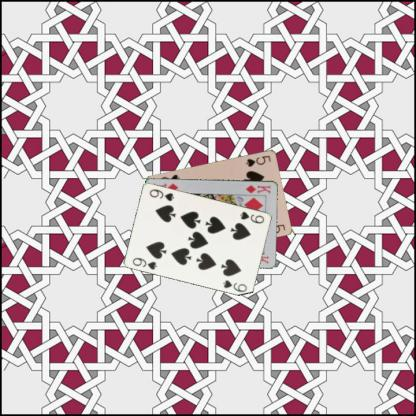5s: (243, 153, 272, 168)
9s: (237, 208, 266, 224), (130, 255, 158, 271)
Kd: (243, 182, 272, 195)
